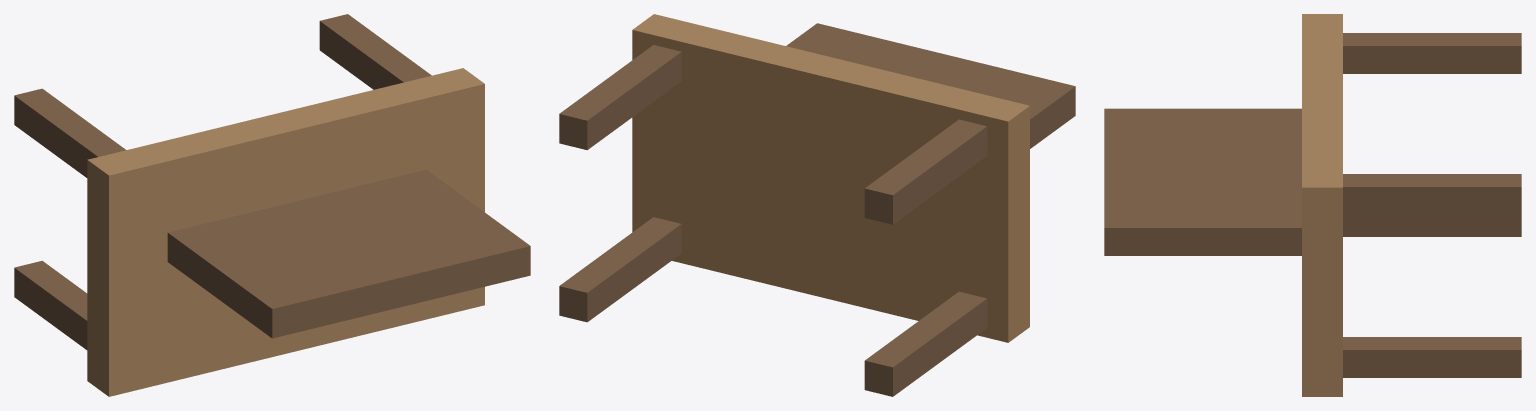
The model's file is 06_tannery_rack.glb.
3 renders of one model, left to right at view 1: azimuth 30°, elevation 25°; view 2: azimuth 150°, elevation 25°; view 3: azimuth 270°, elevation 25°, orthographic. The views are drawn at different scales.
Visible parts, largest first — view 1: table_top, hide_rack, leg_3, leg_4, leg_1; view 2: table_top, hide_rack, leg_3, leg_1, leg_2, leg_4; view 3: hide_rack, table_top, leg_2, leg_3, leg_4, leg_1.
Boxes of the visible parts, x1=… form: table_top: x1=87, y1=68, x2=484, y2=396; hide_rack: x1=167, y1=169, x2=530, y2=338; leg_3: x1=14, y1=88, x2=126, y2=177; leg_4: x1=319, y1=14, x2=431, y2=89; leg_1: x1=14, y1=260, x2=87, y2=349; table_top: x1=632, y1=14, x2=1029, y2=342; hide_rack: x1=786, y1=23, x2=1075, y2=148; leg_3: x1=864, y1=119, x2=987, y2=224; leg_1: x1=864, y1=291, x2=987, y2=396; leg_2: x1=559, y1=217, x2=681, y2=322; leg_4: x1=559, y1=45, x2=681, y2=150; hide_rack: x1=1104, y1=108, x2=1301, y2=255; table_top: x1=1302, y1=14, x2=1342, y2=396; leg_2: x1=1343, y1=337, x2=1521, y2=377; leg_3: x1=1343, y1=33, x2=1521, y2=73; leg_4: x1=1343, y1=174, x2=1521, y2=214; leg_1: x1=1343, y1=215, x2=1521, y2=236.
Bounding box in the file's own units: 1.6 × 0.9 × 1.62.
